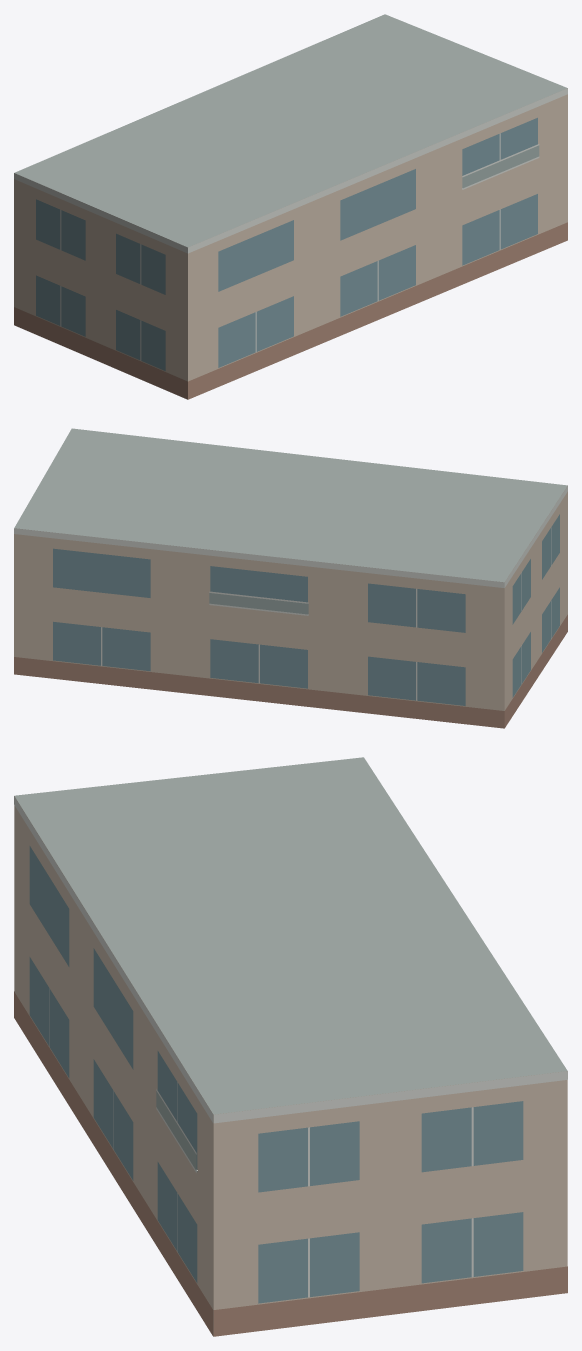
File: survey-upis-32827621.glb
3 renders of one model, top to bottom at view 1: azimuth 30°, elevation 25°; view 2: azimuth 150°, elevation 25°; view 3: azimuth 270°, elevation 25°, orthographic. The views are drawn at different scales.
Visible parts, largest first — view 1: survey-upis-32827621.tmp; view 2: survey-upis-32827621.tmp; view 3: survey-upis-32827621.tmp.
Boxes of the visible parts, <box> form: survey-upis-32827621.tmp: <box>14,14,567,399</box>; survey-upis-32827621.tmp: <box>14,428,567,728</box>; survey-upis-32827621.tmp: <box>14,757,567,1336</box>.
Size of the model in its own units: 21.07 by 6.1 by 13.79.
